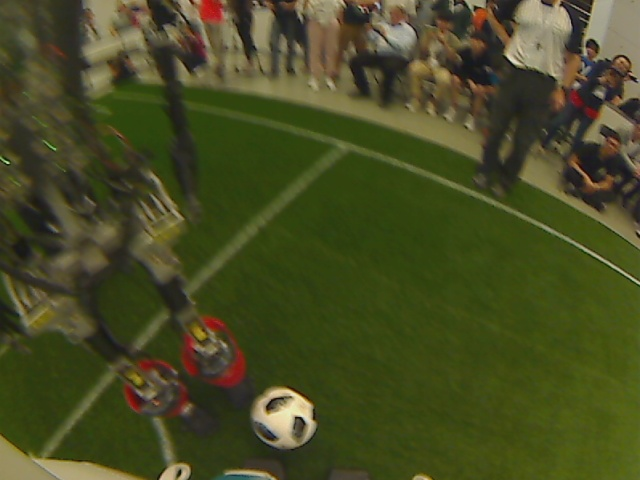ball: (249, 386, 317, 451)
